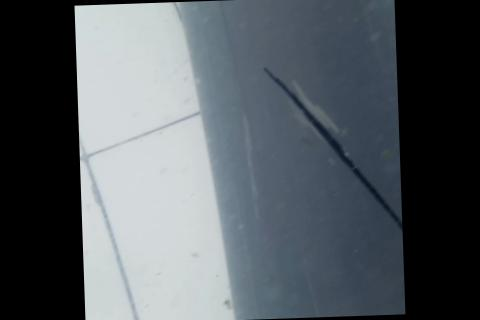keretakan: (262, 62, 403, 257)
